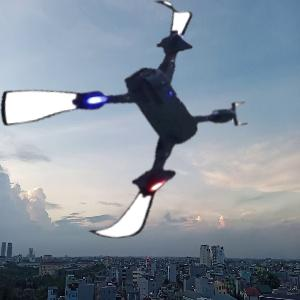drone: (3, 2, 255, 254)
